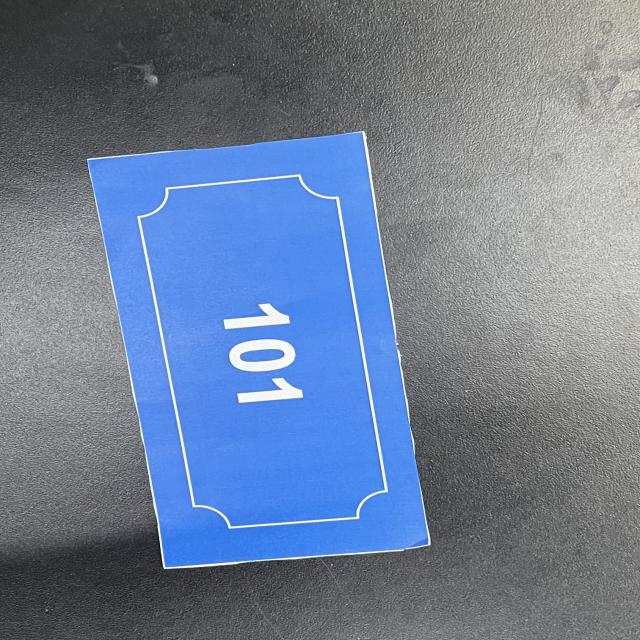Card: (70, 109, 451, 596)
